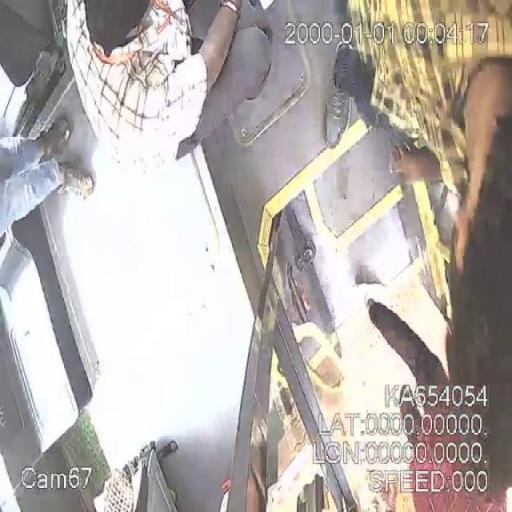persona: (325, 0, 512, 453), (361, 289, 511, 512), (64, 0, 244, 172)
